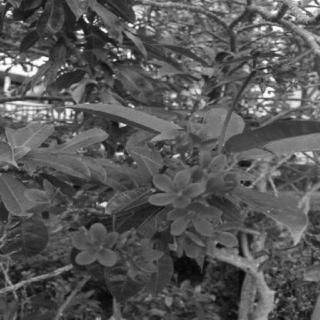other: (233, 32, 313, 104)
